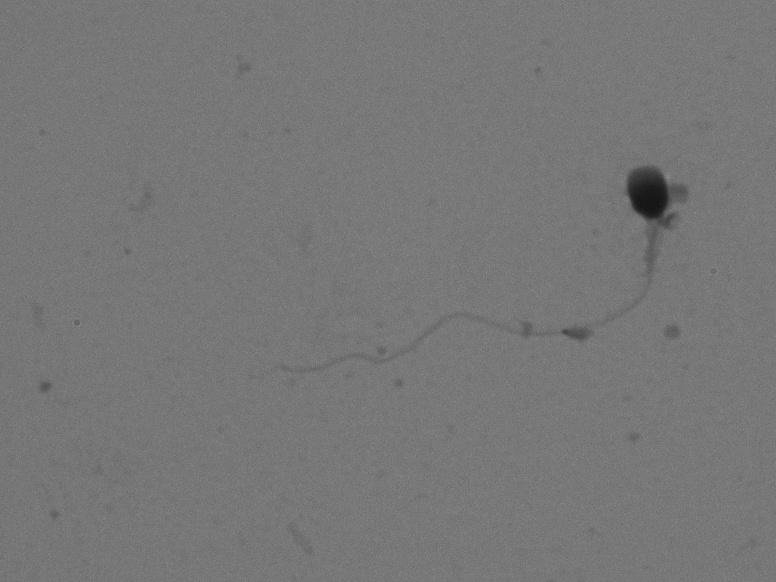Abnormal: (231, 157, 706, 391)
